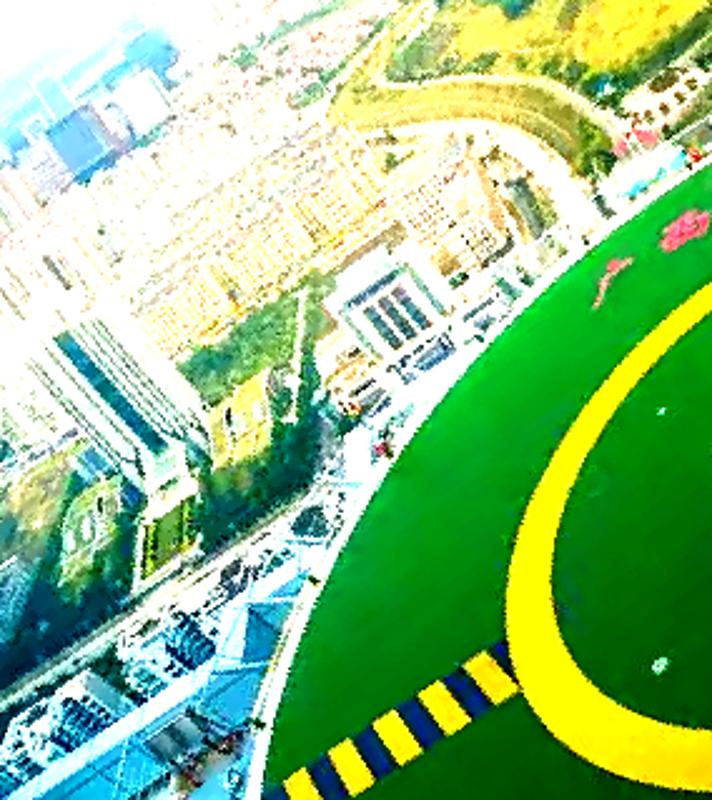Apron: (494, 256, 712, 784)
